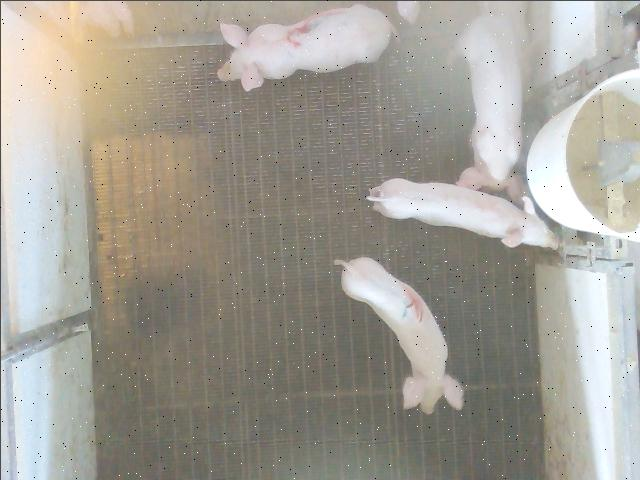pig-3: (216, 4, 394, 90)
pig-4: (335, 256, 462, 412)
